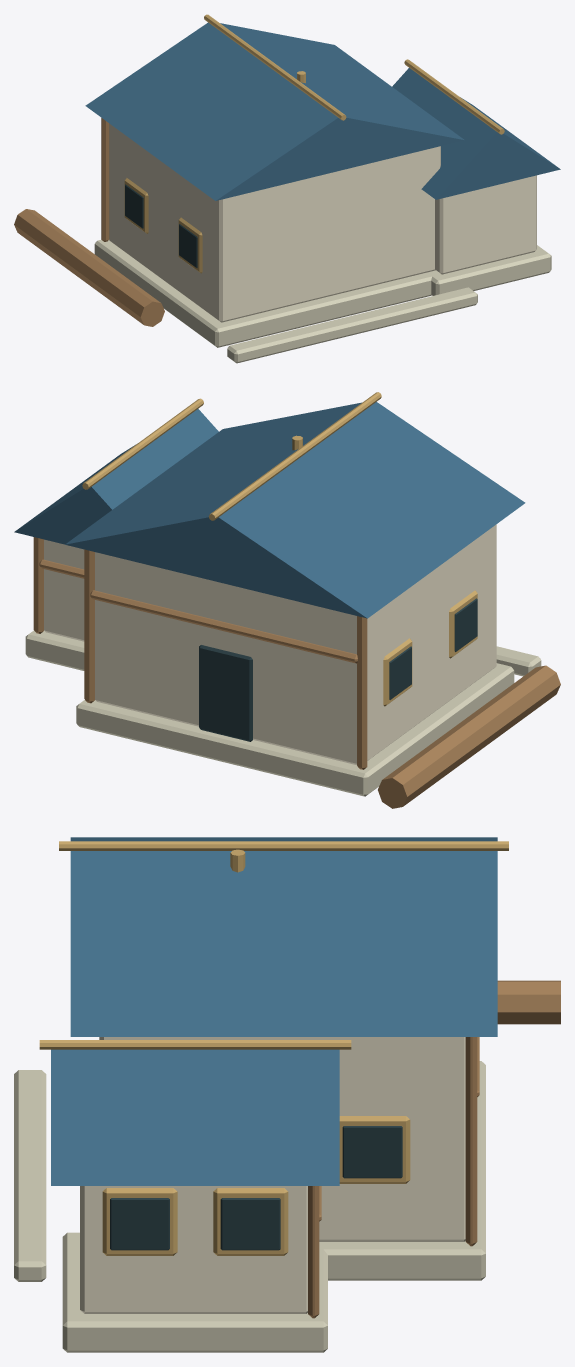
Rendered from level_10.glb.
3 renders of one model, top to bottom at view 1: azimuth 30°, elevation 25°; view 2: azimuth 150°, elevation 25°; view 3: azimuth 270°, elevation 25°, orthographic. The views are drawn at different scales.
Visible parts, largest first — view 1: timber_yard — level 10; view 2: timber_yard — level 10; view 3: timber_yard — level 10.
Boxes of the visible parts, x1,y1,x2,y2 form: timber_yard — level 10: (14, 14, 560, 363); timber_yard — level 10: (14, 392, 560, 808); timber_yard — level 10: (14, 837, 560, 1352).
Size of the model in its own units: 6.43 by 3.3 by 4.74.
